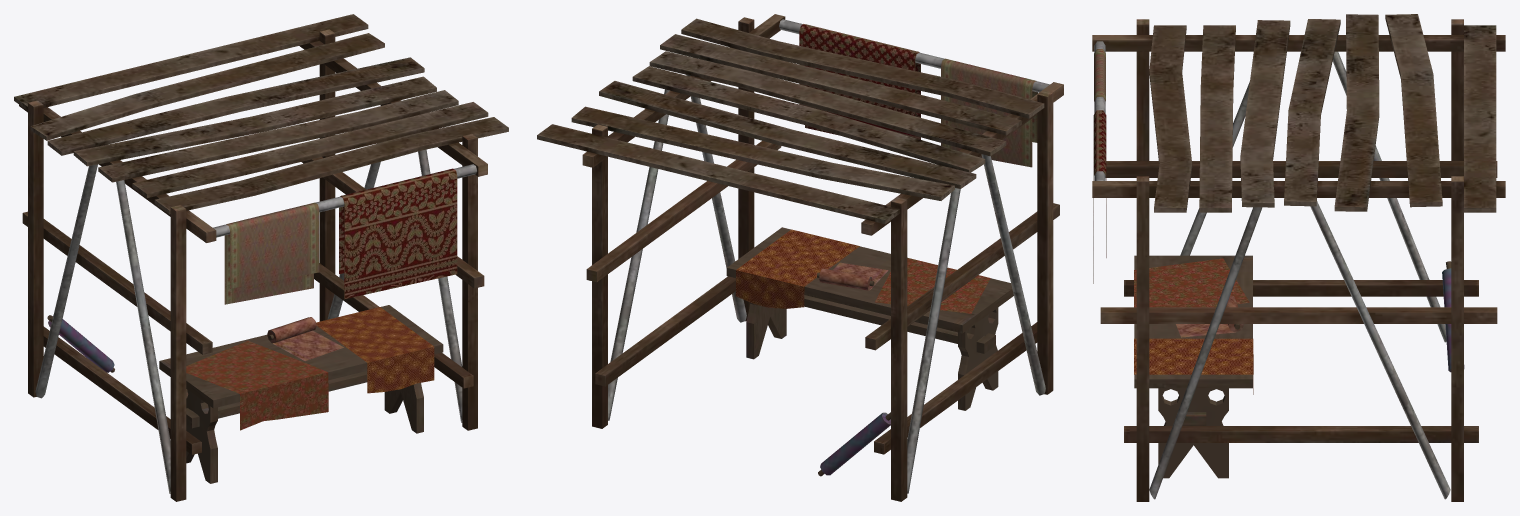
Rendered from stall_b.glb.
The picture shows the model from 3 angles, left to right: view 1: azimuth 30°, elevation 25°; view 2: azimuth 150°, elevation 25°; view 3: azimuth 270°, elevation 25°; orthographic projection. The views are drawn at different scales.
Parts seen in each view (by area): view 1: BaseBody_02, Carpet, BaseBody_02.001; view 2: BaseBody_02, Carpet; view 3: BaseBody_02, Carpet, BaseBody_02.001.
Part boxes in pixels (<box>): BaseBody_02: <box>14,14,508,501</box>; Carpet: <box>186,168,457,430</box>; BaseBody_02.001: <box>272,330,343,360</box>; BaseBody_02: <box>537,14,1063,501</box>; Carpet: <box>735,24,1037,313</box>; BaseBody_02: <box>1092,14,1505,501</box>; Carpet: <box>1093,49,1253,394</box>; BaseBody_02.001: <box>1176,324,1235,337</box>.
Size of the model in its own units: 387 by 298 by 349.
2 materials, 2 textured.
